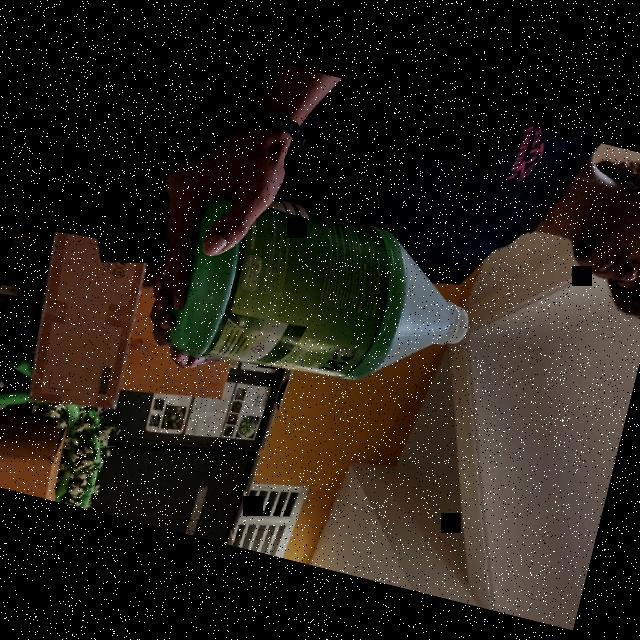chemical_plastic_gallon: (164, 182, 488, 418)
